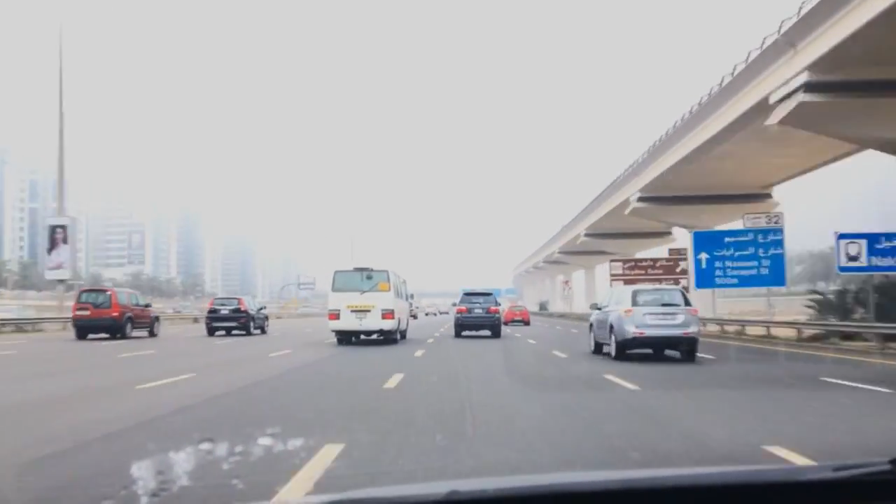bus: (325, 265, 414, 346)
car: (585, 284, 703, 362), (71, 284, 163, 340), (203, 295, 271, 339), (451, 289, 502, 337), (1, 303, 28, 332), (500, 303, 532, 327), (396, 298, 420, 320), (424, 303, 439, 318), (438, 305, 449, 313)
